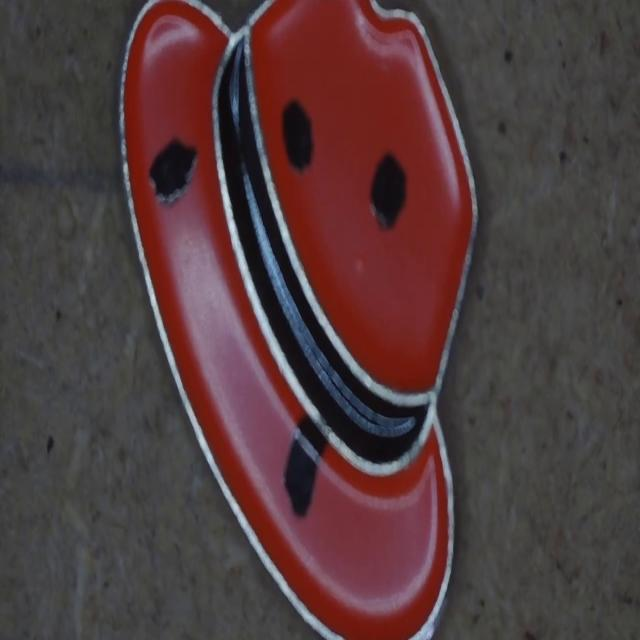Hatband: (216, 36, 428, 470)
Paint_Leak: (282, 418, 325, 517), (149, 142, 196, 203), (370, 156, 404, 228), (282, 102, 310, 171)
RedHatPin: (119, 0, 475, 638)
